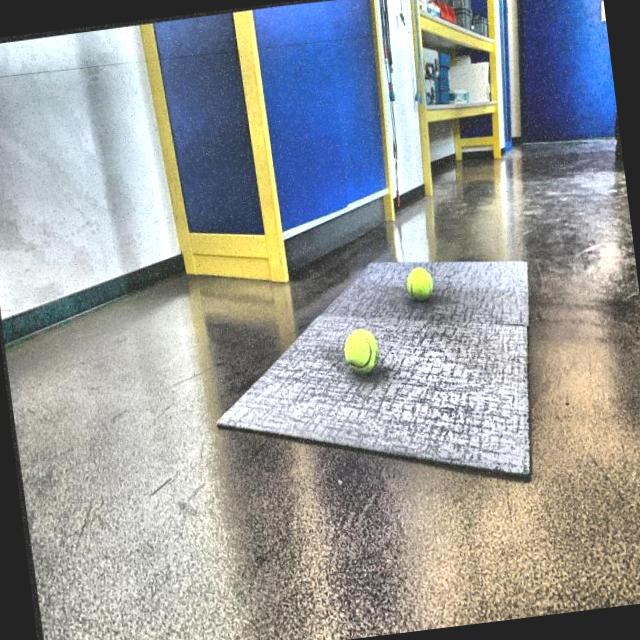Tennis Ball: (336, 323, 382, 382), (400, 261, 437, 310)
